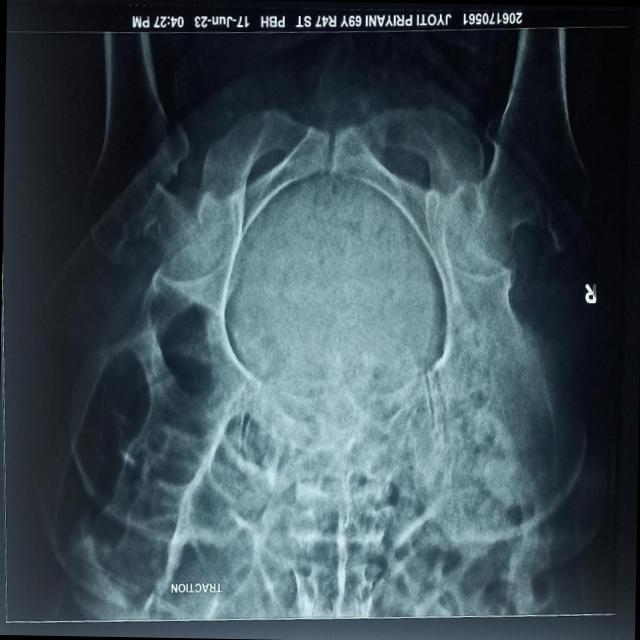left-neck: (85, 34, 188, 267), (141, 181, 221, 275)
normal-right: (443, 29, 589, 269)
